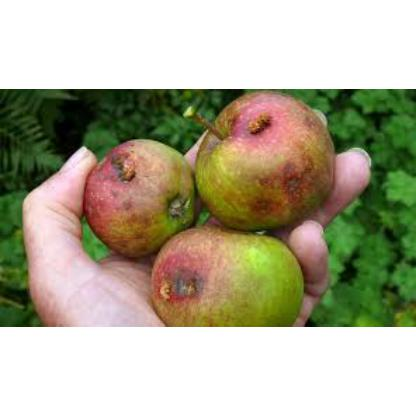damaged_apple: (196, 93, 338, 225), (148, 229, 302, 325), (84, 134, 190, 258)
